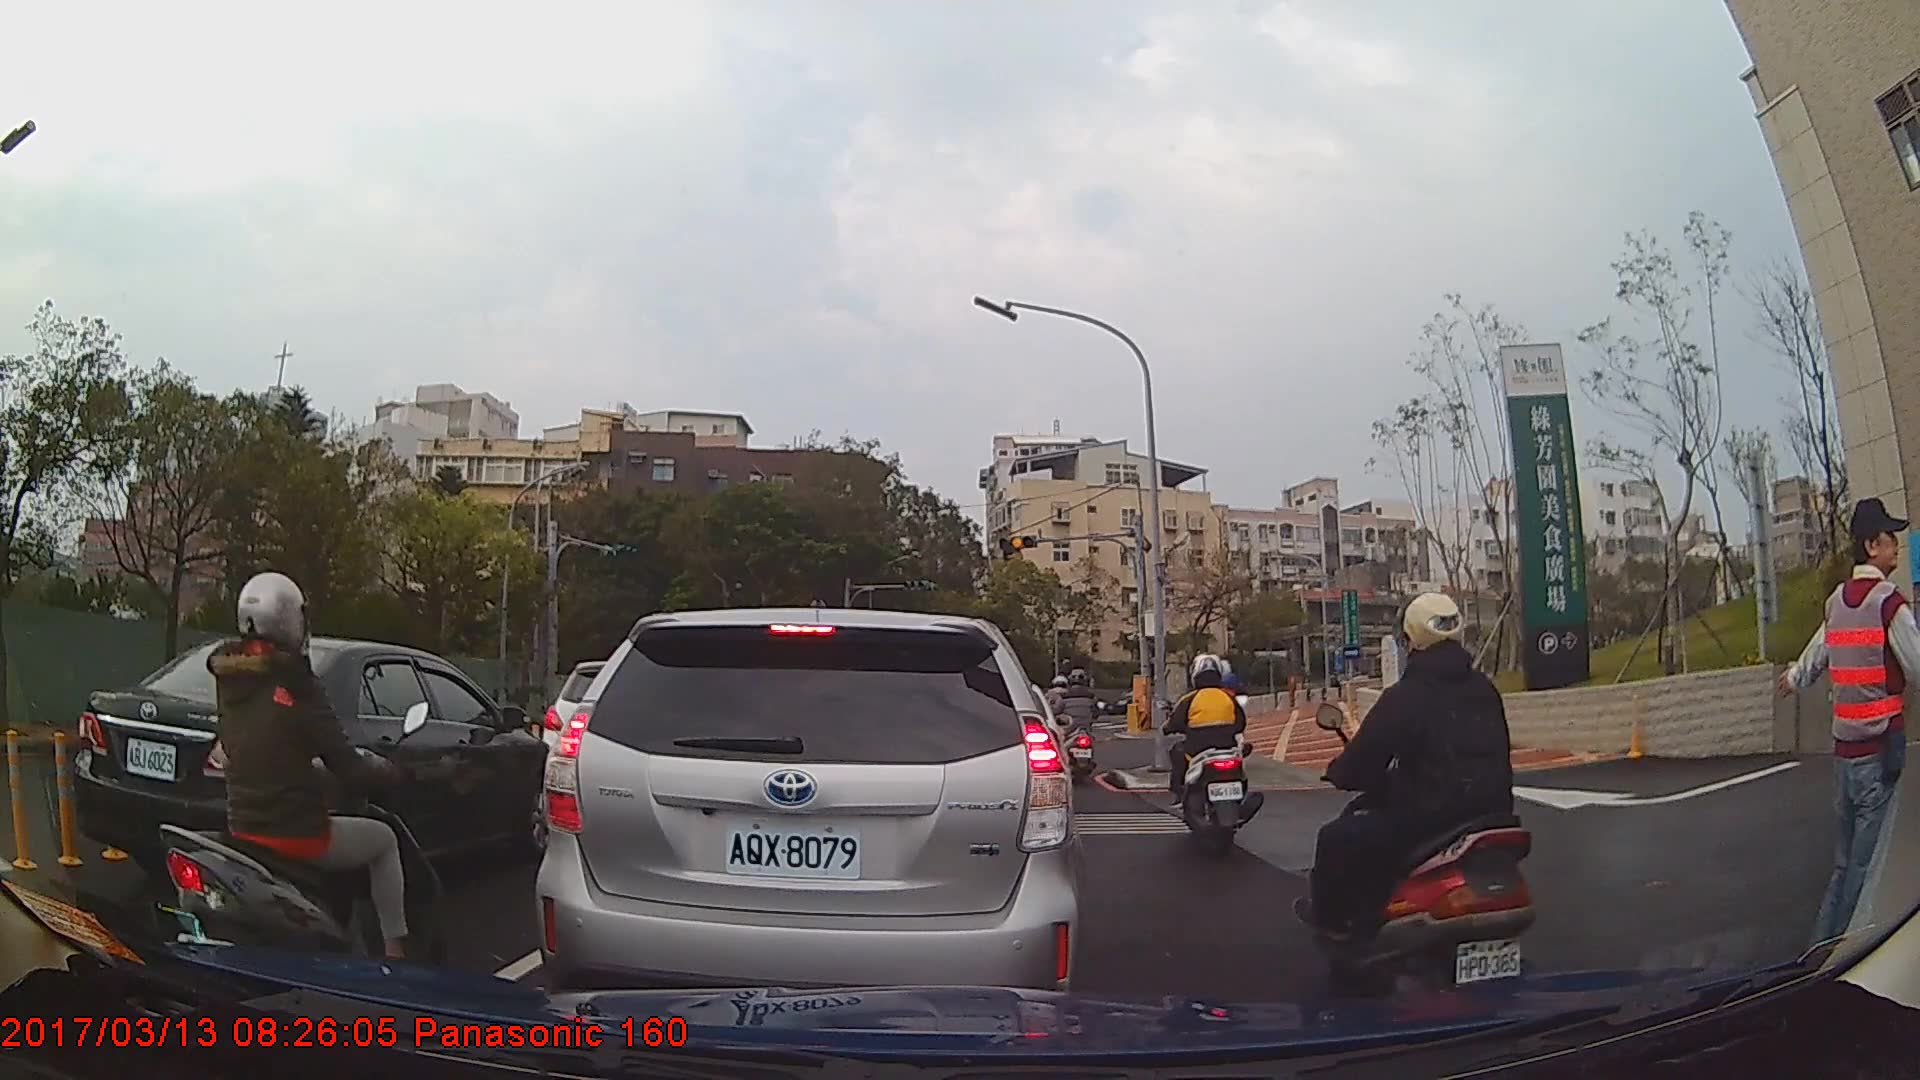pedestrian: (1774, 496, 1920, 979)
rider: (157, 573, 452, 1023), (1290, 587, 1537, 1029), (1161, 651, 1266, 865), (1055, 672, 1104, 785)
vehicle: (533, 605, 1084, 1019), (72, 633, 563, 906), (1098, 683, 1166, 716)
